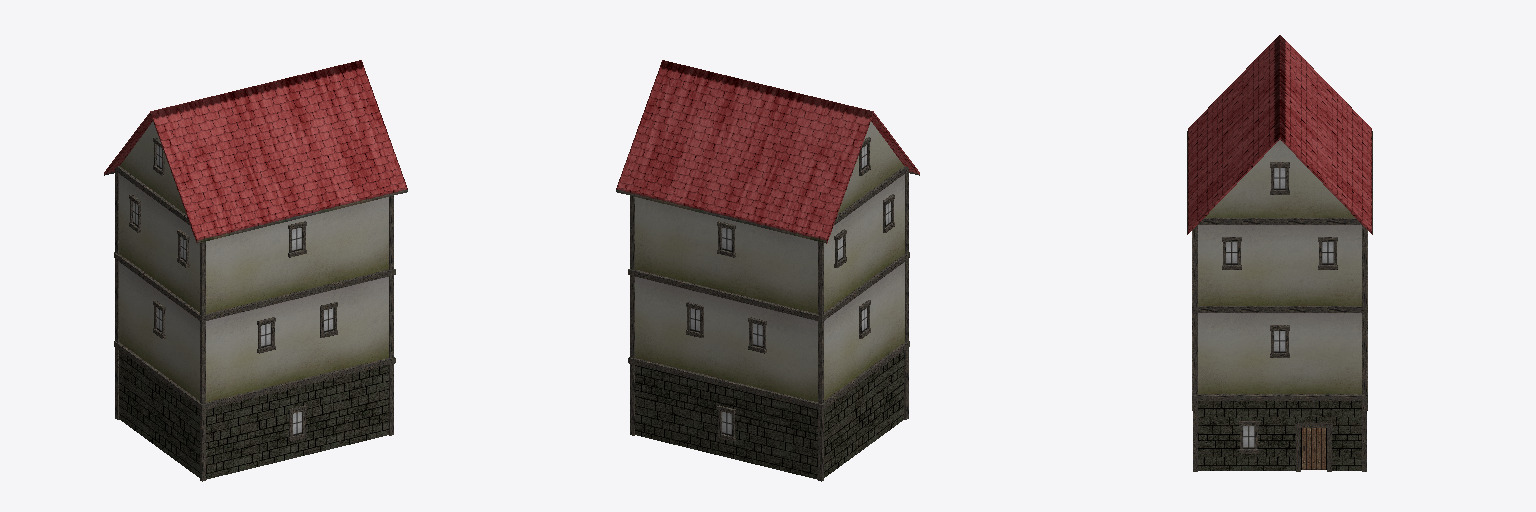
3 views of the same model, side by side, from view 1: azimuth 30°, elevation 25°; view 2: azimuth 150°, elevation 25°; view 3: azimuth 270°, elevation 25° (orthographic).
Parts seen in each view (by area): view 1: polySurface38; view 2: polySurface38; view 3: polySurface38.
Boxes of the visible parts, x1,y1,x2,y2 form: polySurface38: [104, 60, 407, 481]; polySurface38: [616, 60, 919, 481]; polySurface38: [1187, 35, 1372, 471].
Bounding box in the file's own units: 20.27 × 31.25 × 15.42.
Materials: 1 (1 with a texture image).